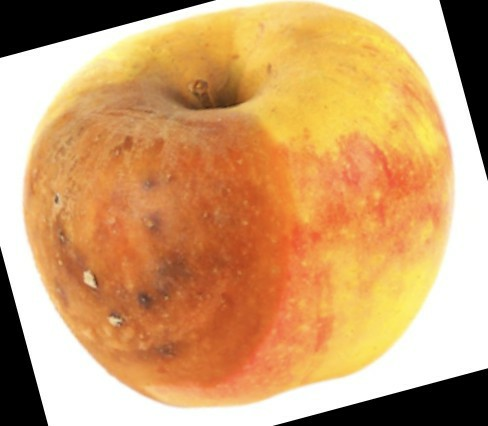rotten_apple: (25, 2, 454, 407)
